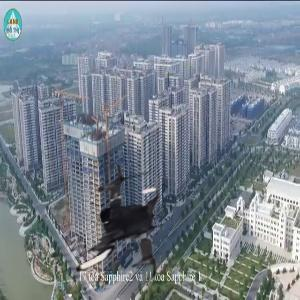drone: (42, 158, 184, 300)
